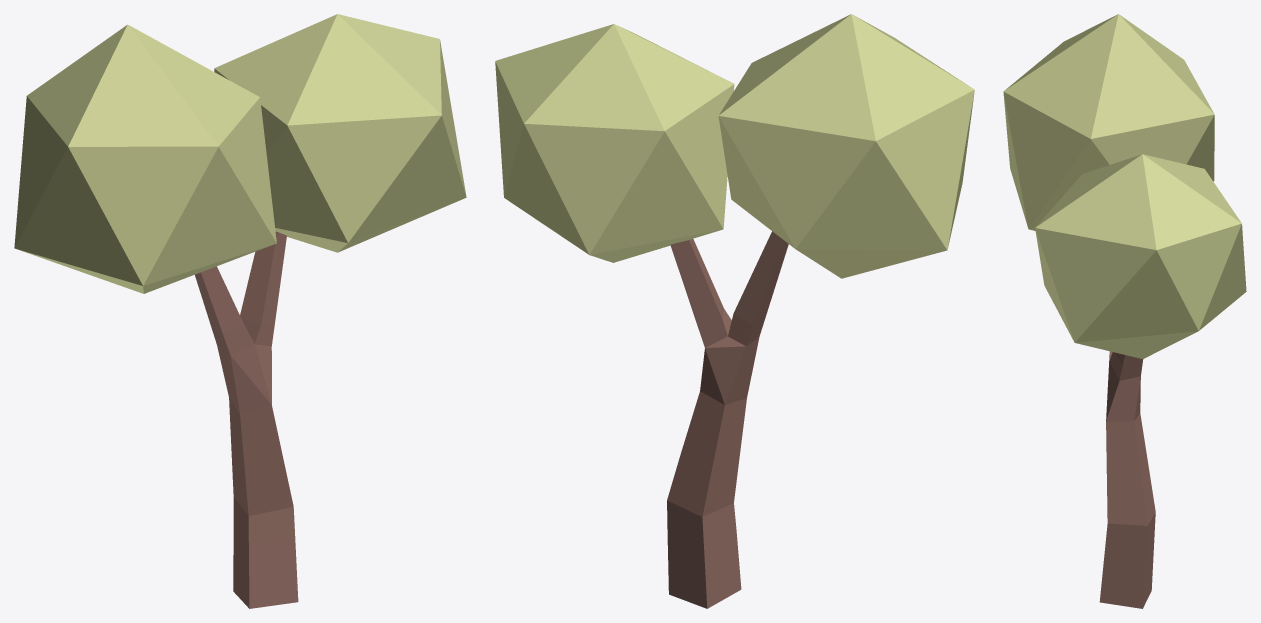
The model's file is Desert Tree.fbx.
The picture shows the model from 3 angles, left to right: view 1: azimuth 30°, elevation 25°; view 2: azimuth 150°, elevation 25°; view 3: azimuth 270°, elevation 25°; orthographic projection. The views are drawn at different scales.
Visible parts, largest first — view 1: Tree; view 2: Tree; view 3: Tree.
Boxes of the visible parts, x1,y1,x2,y2 form: Tree: [14, 14, 466, 608]; Tree: [495, 14, 974, 608]; Tree: [1003, 14, 1246, 608].
Bounding box in the file's own units: 3.51 × 4.67 × 1.96.
